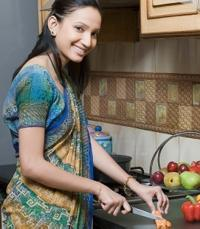person: (1, 1, 170, 229)
